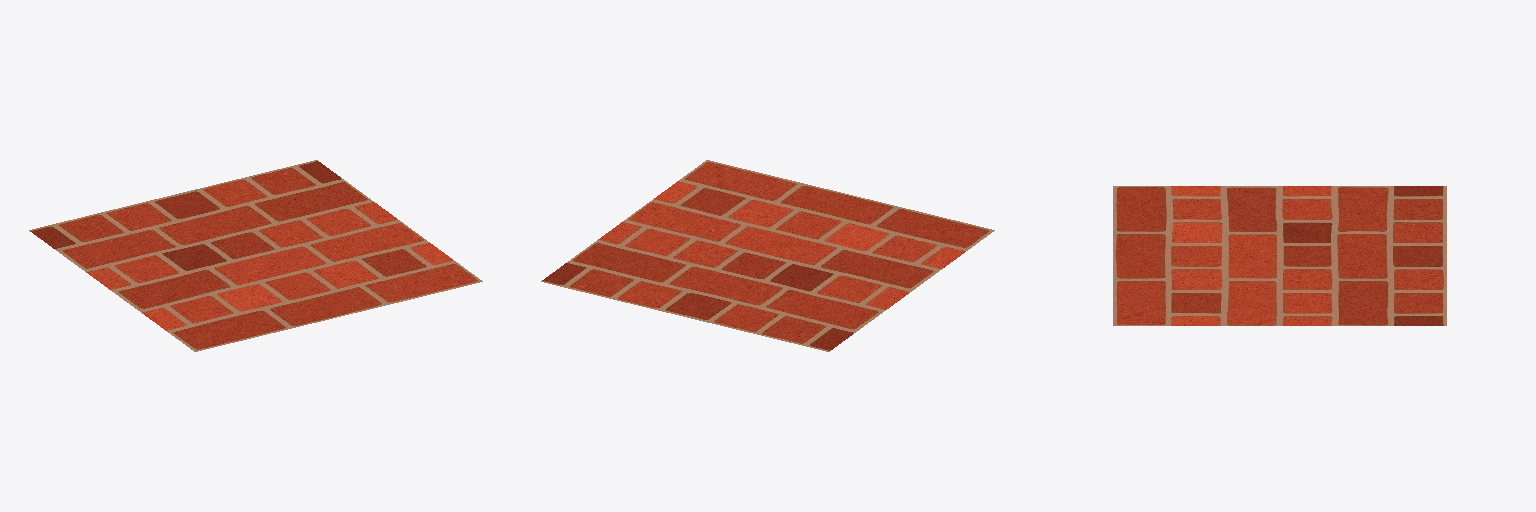
3 views of the same model, side by side, from view 1: azimuth 30°, elevation 25°; view 2: azimuth 150°, elevation 25°; view 3: azimuth 270°, elevation 25° (orthographic).
Visible parts, largest first — view 1: Grid; view 2: Grid; view 3: Grid.
Boxes of the visible parts, box(x1,y1,x2,y2) form: Grid: box(29, 160, 482, 351); Grid: box(541, 160, 994, 351); Grid: box(1113, 186, 1446, 325).
Bounding box in the file's own units: 2 × 0 × 2.
Materials: 1 (1 with a texture image).